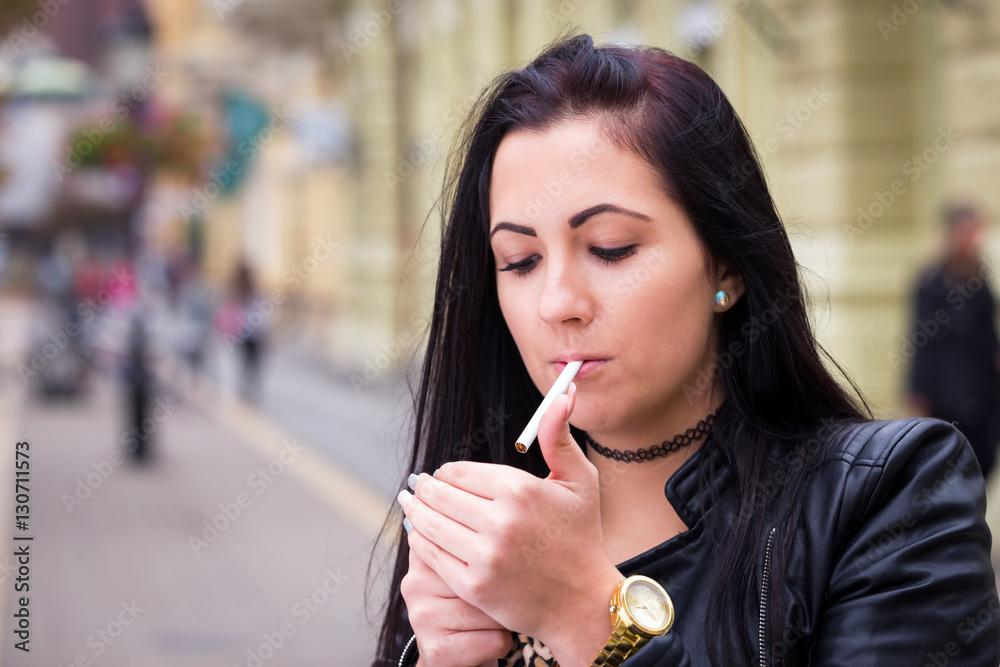cigarette: (515, 361, 582, 452)
